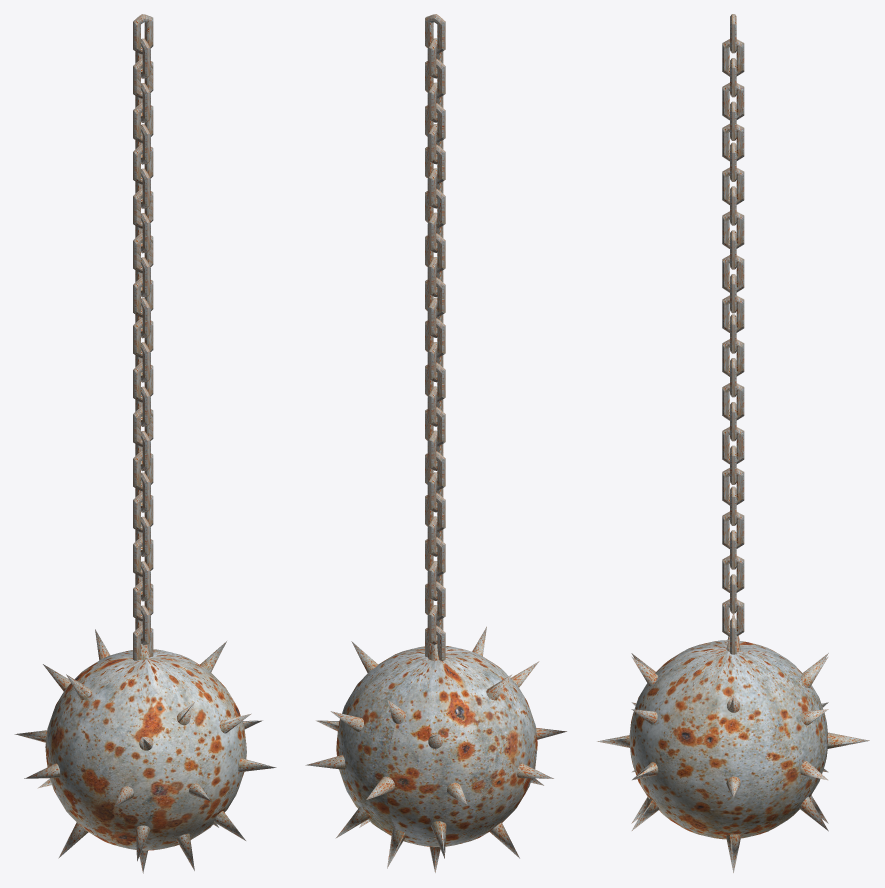
Rendered from utku_mace_with_chain.fbx.
3 renders of one model, left to right at view 1: azimuth 30°, elevation 25°; view 2: azimuth 150°, elevation 25°; view 3: azimuth 270°, elevation 25°, orthographic.
Parts seen in each view (by area): view 1: Sphere001, w, Cone027; view 2: Sphere001, w, Cone027; view 3: Sphere001, w, Cone027.
Part boxes in pixels (bbox=[...]): Sphere001: bbox=[45, 649, 246, 850]; w: bbox=[133, 14, 153, 660]; Cone027: bbox=[14, 629, 276, 873]; Sphere001: bbox=[336, 646, 537, 846]; w: bbox=[425, 14, 445, 660]; Cone027: bbox=[305, 626, 566, 872]; Sphere001: bbox=[629, 640, 827, 839]; w: bbox=[722, 14, 744, 654]; Cone027: bbox=[597, 613, 869, 872].
Bounding box in the file's own units: 15.19 × 52.15 × 15.25.
